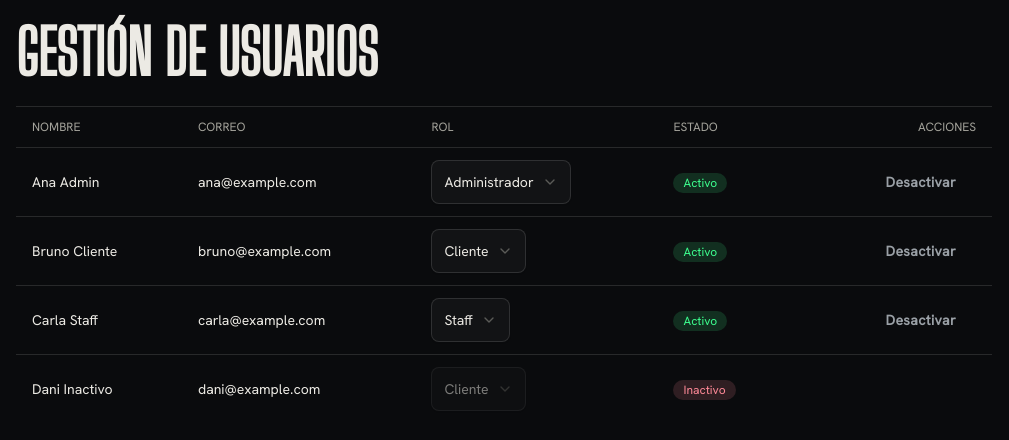
Test: AdminUsersPage › deactivates a user and the table shows it as inactive
The image size is (1009, 440).
What coordinates should you click on to do the following:
click the button "Desactivar" in the row of "Bruno Cliente"
I would click on:
 (921, 251)
Its box is [866,229,976,273].
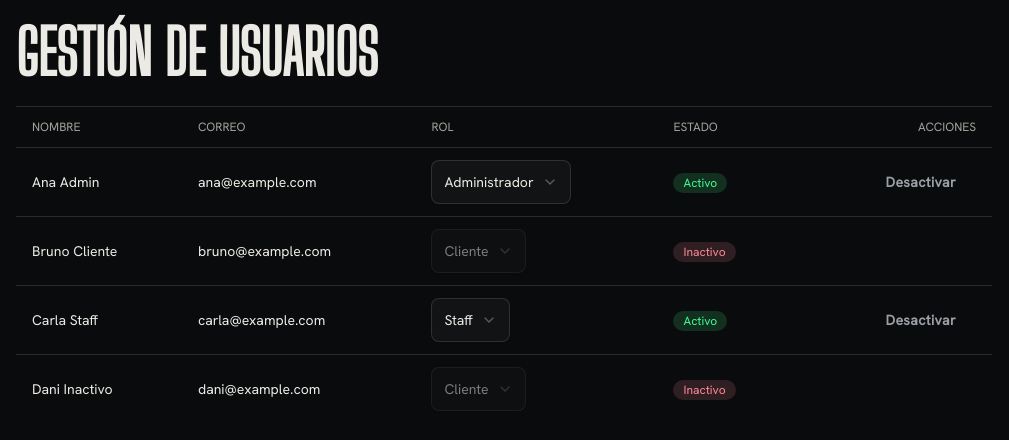
Expected: the text "Inactivo" in the row of "Bruno Cliente" is shown, [684,244,726,260]
